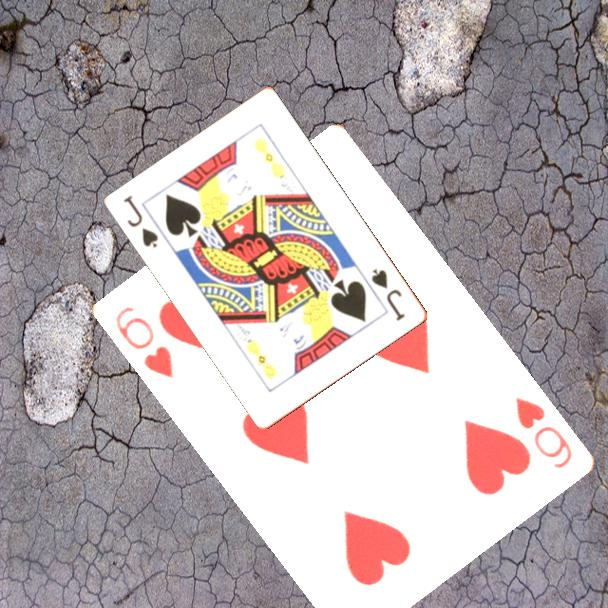h06: (111, 302, 176, 382), (511, 393, 575, 472)
s11: (120, 192, 162, 251), (368, 265, 408, 324)
